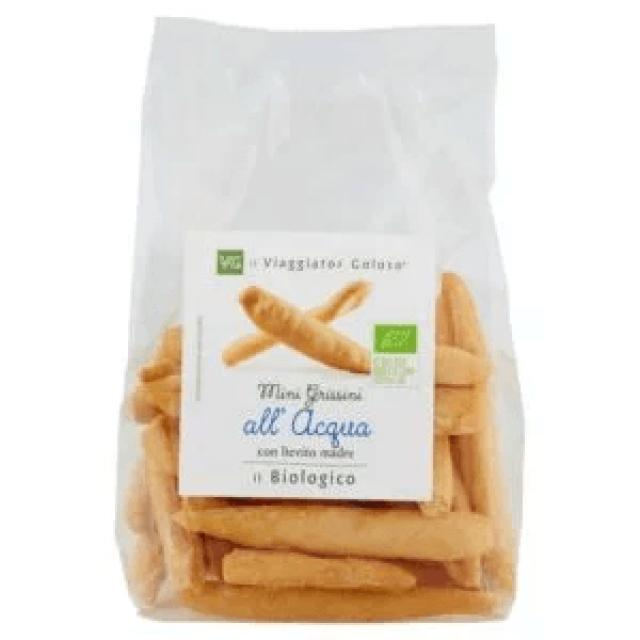bread: (113, 17, 525, 625)
